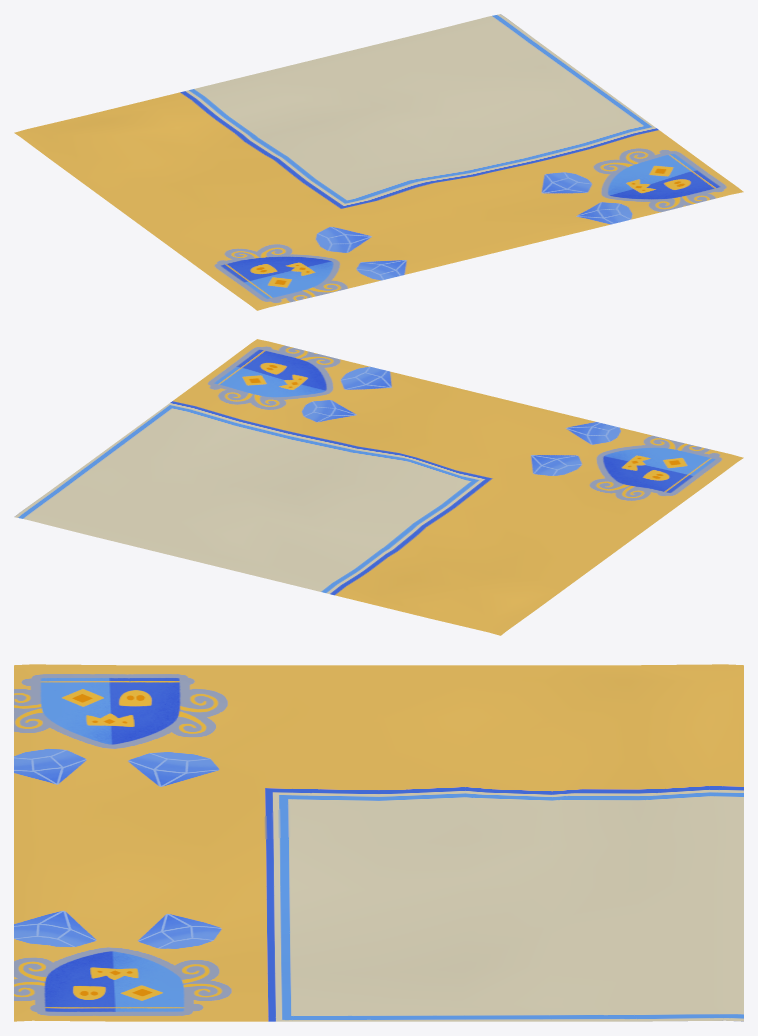
File: GroundCentral.fbx
The picture shows the model from 3 angles, top to bottom: view 1: azimuth 30°, elevation 25°; view 2: azimuth 150°, elevation 25°; view 3: azimuth 270°, elevation 25°; orthographic projection. The views are drawn at different scales.
Parts seen in each view (by area): view 1: GroundCentral_LOD0; view 2: GroundCentral_LOD0; view 3: GroundCentral_LOD0.
Boxes of the visible parts, x1,y1,x2,y2 form: GroundCentral_LOD0: [14, 14, 743, 310]; GroundCentral_LOD0: [14, 339, 743, 635]; GroundCentral_LOD0: [14, 664, 743, 1021].
Size of what is drawn, in the model's own units: 92.36 by 2.04 by 79.92.
